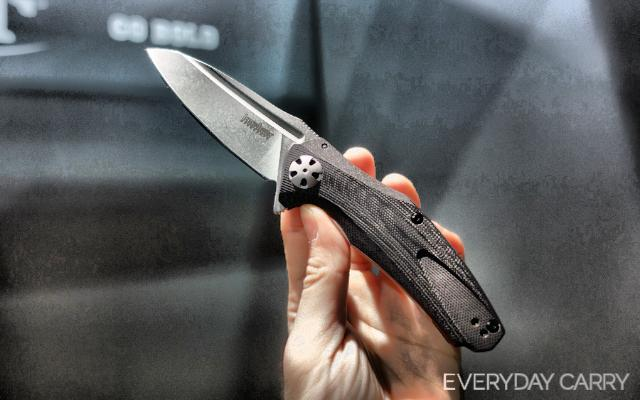knife: (138, 40, 514, 360)
